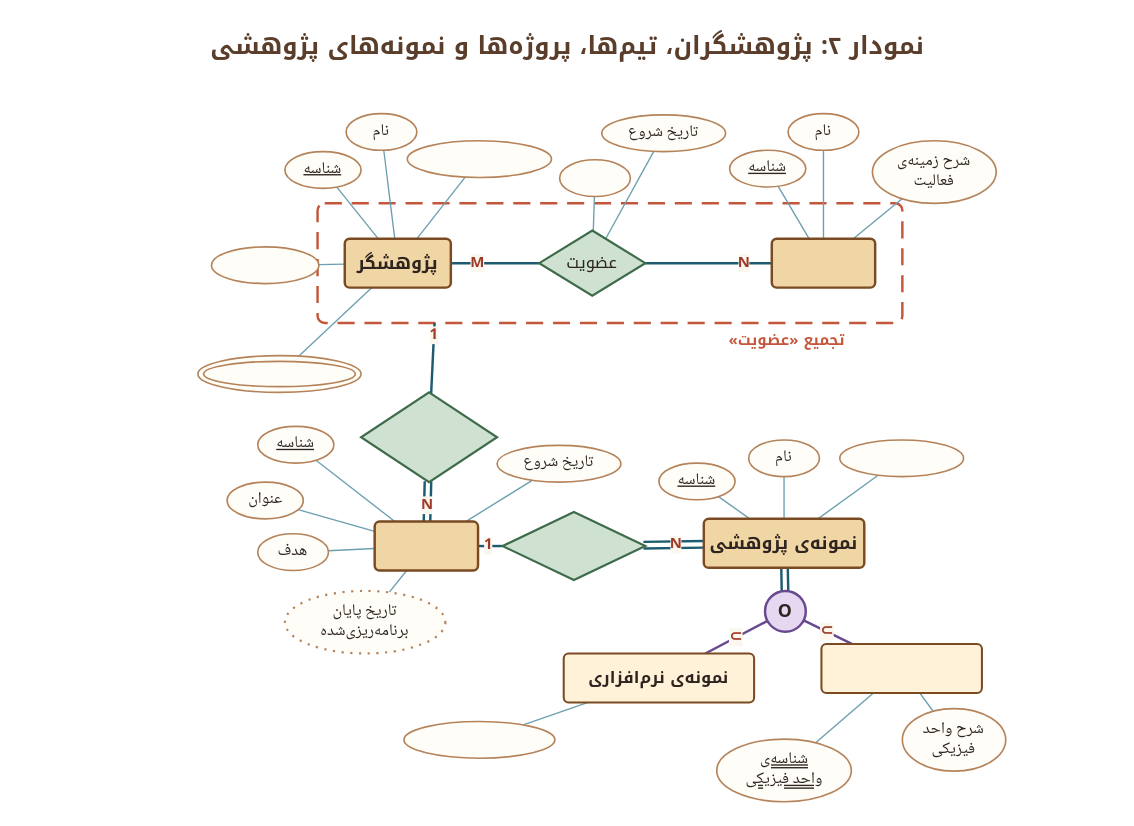
Some shapes in this 1134 by 826 pixel diagram are drawn without their labels. The shapes that lost their labels are listed below. From the top down, each one's centre as x and y in pixels, then its label:
the point at 479,158: نام خانوادگی
the point at 594,177: نقش
the point at 264,264: رایانامه
the point at 823,262: تیم
the point at 278,373: شماره‌های تماس
the point at 428,437: مسئولیت پروژه
the point at 901,457: شرح کاربرد
the point at 426,545: پروژه
the point at 573,545: متعلق به
the point at 901,667: نمونه‌ی فیزیکی
the point at 478,739: نشانی مخزن کد
